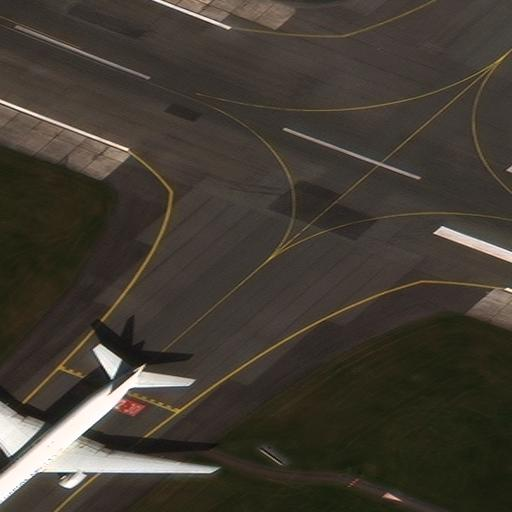Large Civil Transport: (0, 362, 211, 512)
